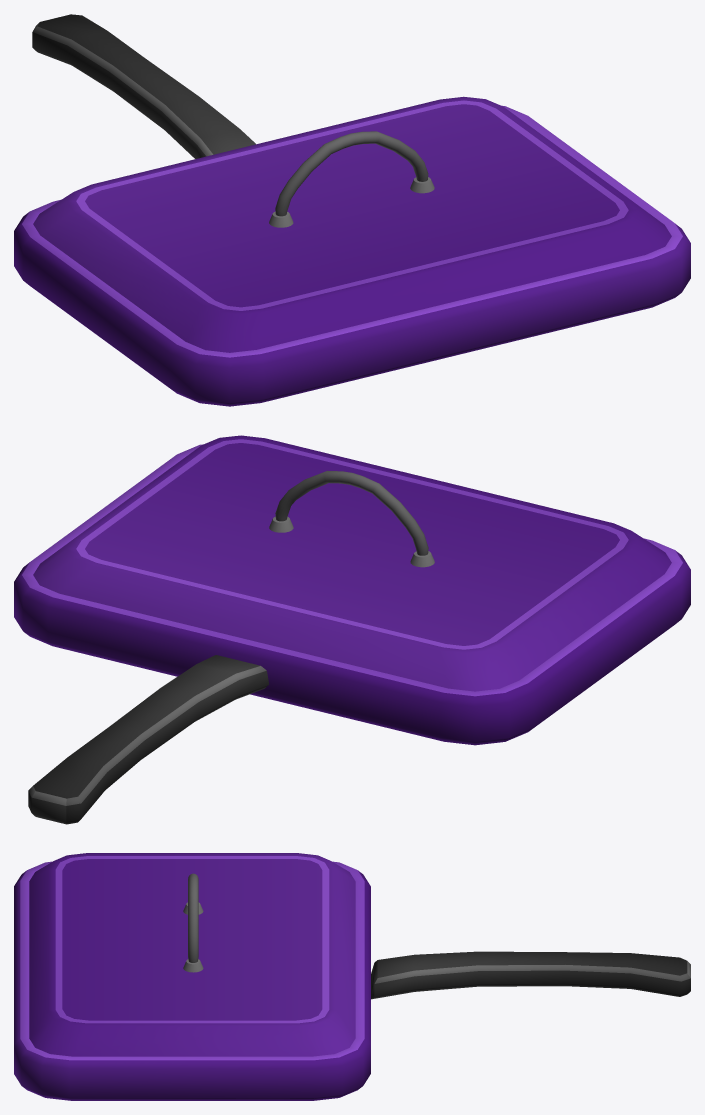
File: Pan_7.glb
The picture shows the model from 3 angles, top to bottom: view 1: azimuth 30°, elevation 25°; view 2: azimuth 150°, elevation 25°; view 3: azimuth 270°, elevation 25°; orthographic projection. The views are drawn at different scales.
Visible parts, largest first — view 1: Pan_7 Top, Pan_7; view 2: Pan_7 Top, Pan_7; view 3: Pan_7 Top, Pan_7.
Part boxes in pixels (box(x1,y1,x2,y2)): Pan_7 Top: box(33, 96, 671, 352); Pan_7: box(14, 14, 690, 406); Pan_7 Top: box(33, 435, 671, 691); Pan_7: box(14, 444, 690, 824); Pan_7 Top: box(29, 853, 355, 1056); Pan_7: box(14, 861, 690, 1100).
Size of the model in its own units: 0.3451 by 0.0935 by 0.4788.
Materials: 1 (1 with a texture image).
